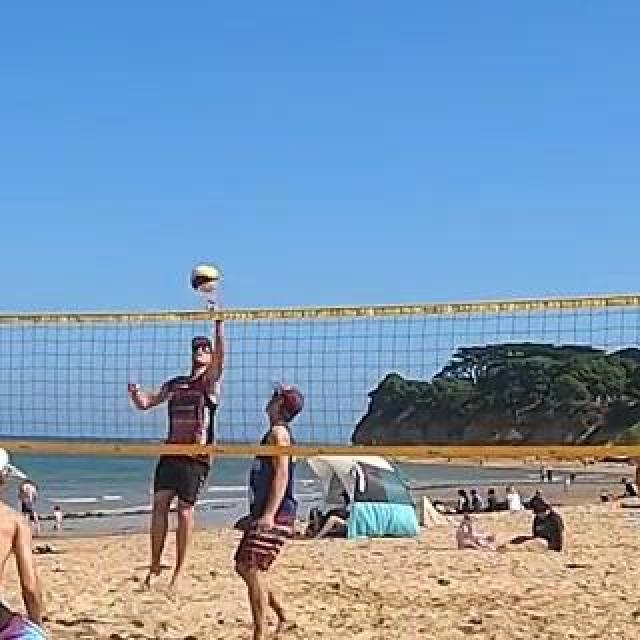volleyball: (190, 265, 218, 291)
